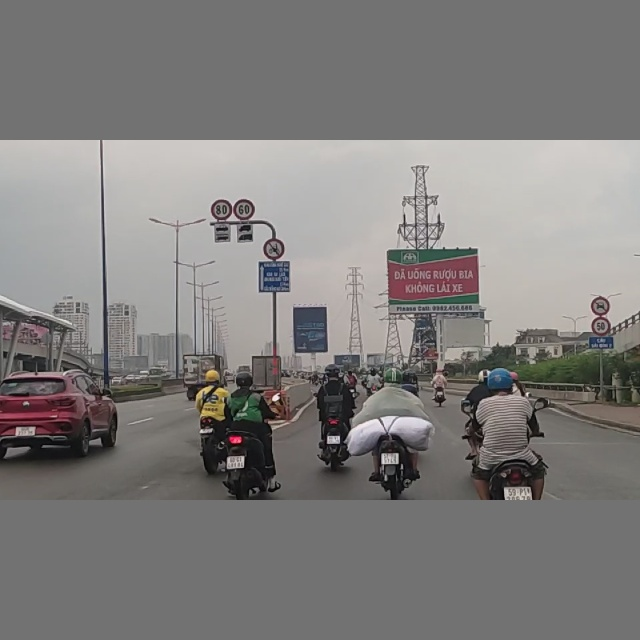P.103a: (591, 295, 611, 316)
P.104: (263, 237, 286, 261)
P.127*50: (592, 318, 609, 335)
P.127*60: (234, 197, 255, 219)
P.127*80: (209, 198, 233, 221)
